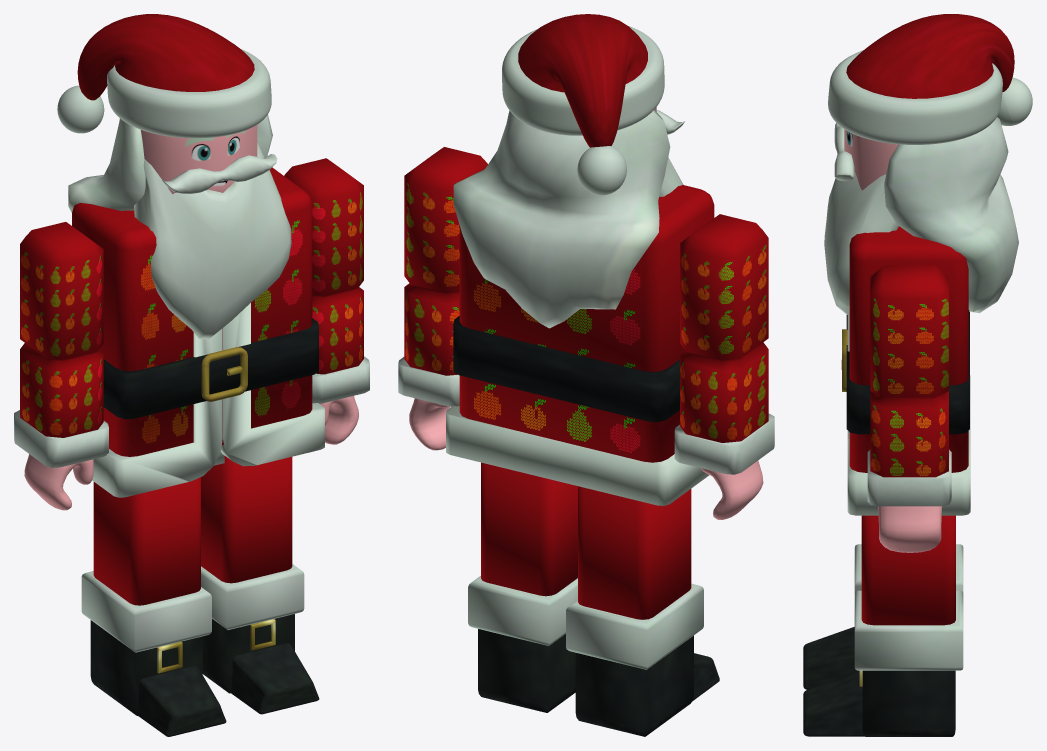
Rendered from Santa.glb.
The picture shows the model from 3 angles, left to right: view 1: azimuth 30°, elevation 25°; view 2: azimuth 150°, elevation 25°; view 3: azimuth 270°, elevation 25°; orthographic projection. The views are drawn at different scales.
Parts seen in each view (by area): view 1: Cabeza, Torso, PiernaIzq, PiernaDer, BrazoDer, BrazoDer.001; view 2: Cabeza, Torso, PiernaIzq, BrazoDer, PiernaDer, BrazoDer.001; view 3: Cabeza, PiernaDer, BrazoDer.001, Torso, PiernaIzq.
Part boxes in pixels (left/top/right/bottom): Cabeza: left=57, top=14, right=291, bottom=339; Torso: left=72, top=167, right=324, bottom=497; PiernaIzq: left=81, top=477, right=226, bottom=736; PiernaDer: left=201, top=456, right=319, bottom=714; BrazoDer: left=14, top=222, right=108, bottom=510; BrazoDer.001: left=284, top=158, right=369, bottom=444; Cabeza: left=453, top=14, right=684, bottom=328; Torso: left=446, top=185, right=714, bottom=505; PiernaIzq: left=566, top=486, right=719, bottom=736; BrazoDer: left=674, top=214, right=774, bottom=519; PiernaDer: left=468, top=462, right=577, bottom=712; BrazoDer.001: left=398, top=147, right=487, bottom=450; Cabeza: left=824, top=14, right=1032, bottom=314; PiernaDer: left=803, top=515, right=963, bottom=736; BrazoDer.001: left=867, top=265, right=951, bottom=552; Torso: left=841, top=226, right=970, bottom=515; PiernaIzq: left=803, top=544, right=963, bottom=689.
Bounding box in the file's own units: 0.8725 × 1.69 × 0.5239.
Materials: 1 (1 with a texture image).
